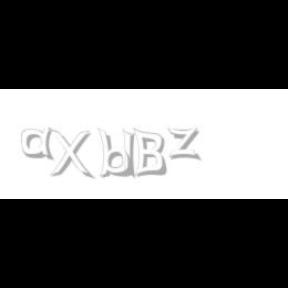B: (133, 128, 167, 178)
I: (124, 128, 136, 180)
X: (48, 128, 92, 180)
a: (22, 128, 58, 160)
b: (97, 128, 135, 178)
z: (167, 128, 203, 160)
